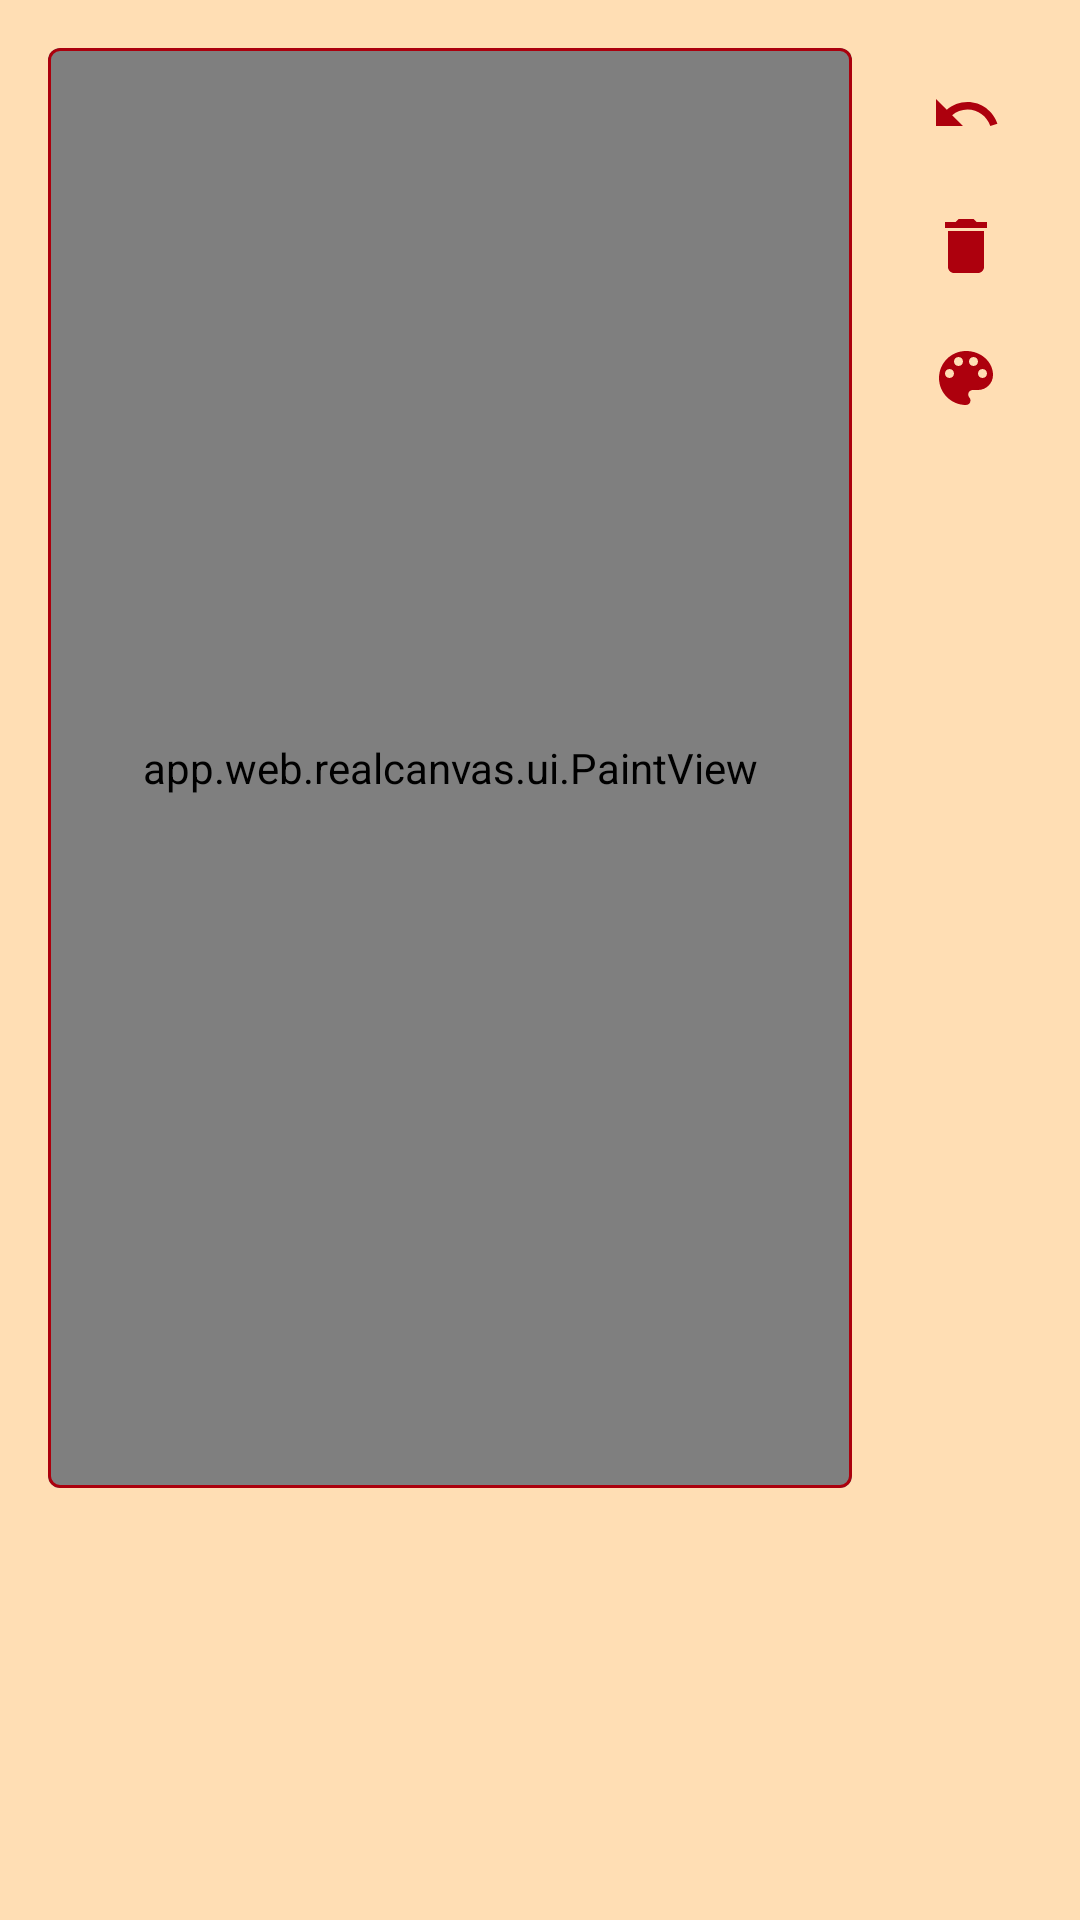

Named icons in this screenshot (1080px x 1920px) and their bounding boxes, Rect(x1, y1, x2, y2):
Clear: Rect(945, 219, 987, 273)
Color Picker: Rect(939, 351, 993, 405)
Undo: Rect(936, 99, 998, 126)
